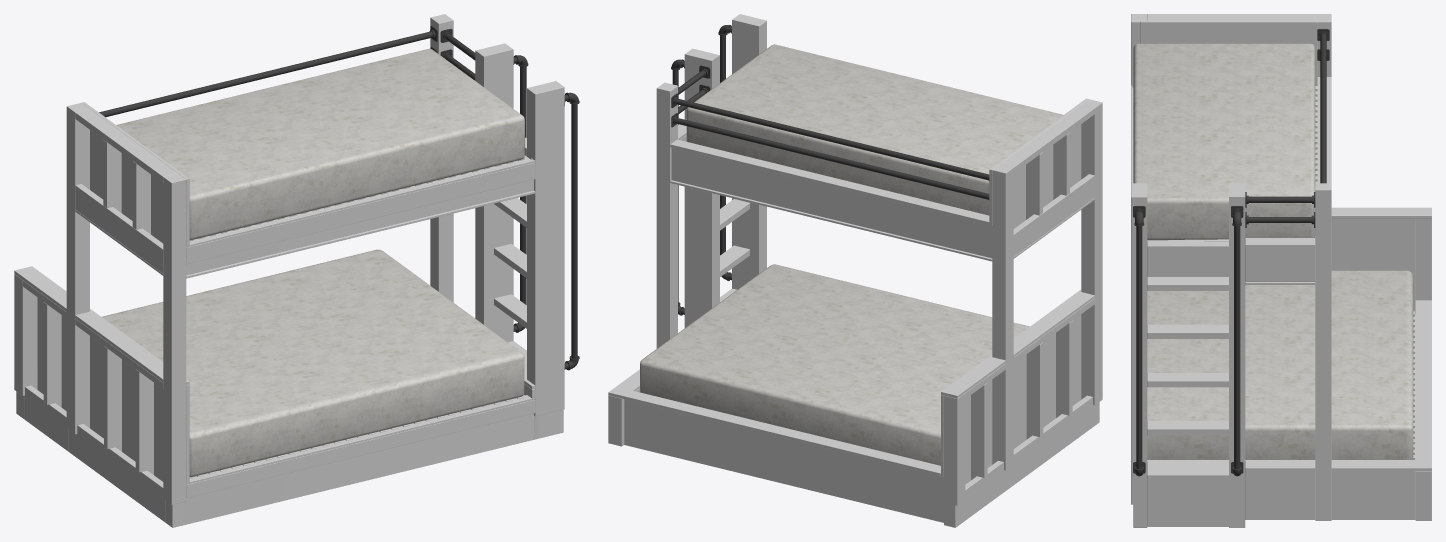
The model's file is bunks1.glb.
3 views of the same model, side by side, from view 1: azimuth 30°, elevation 25°; view 2: azimuth 150°, elevation 25°; view 3: azimuth 270°, elevation 25° (orthographic). The views are drawn at different scales.
Parts seen in each view (by area): view 1: mattresses.002, mattresses.001, bunk.126, bunk.071, bunk.074, bunk.073, bunk.127, bunk.121, bunk.120, bunk.070, bunk.117, bunk.063 (+22 smaller); view 2: mattresses.002, mattresses.001, bunk.069, bunk.061, bunk.073, bunk.074, bunk.127, bunk.075, bars.002, bunk.117, bunk.126, bunk.068 (+17 smaller); view 3: mattresses.002, mattresses.001, bunk.075, bunk.117, bunk.126, bunk.081, bunk.129, bars.023, bunk.127, bunk.131, bunk.130, bunk.067 (+20 smaller).
Part boxes in pixels (<box>): mattresses.002: <box>102,249,524,477</box>; mattresses.001: <box>116,48,524,240</box>; bunk.126: <box>527,81,564,439</box>; bunk.071: <box>185,413,533,524</box>; bunk.074: <box>163,173,186,527</box>; bunk.073: <box>66,102,89,457</box>; bunk.127: <box>475,43,513,341</box>; bunk.121: <box>186,162,535,264</box>; bunk.120: <box>186,159,533,274</box>; bunk.070: <box>186,400,535,497</box>; bunk.117: <box>37,298,163,481</box>; bunk.063: <box>77,424,165,522</box>; mattresses.002: <box>640,264,1029,465</box>; mattresses.001: <box>686,44,1063,215</box>; bunk.069: <box>624,399,943,522</box>; bunk.061: <box>671,148,992,258</box>; bunk.073: <box>992,164,1013,491</box>; bunk.074: <box>1081,99,1102,426</box>; bunk.127: <box>684,48,719,327</box>; bunk.075: <box>656,82,677,348</box>; bars.002: <box>671,93,989,200</box>; bunk.117: <box>965,314,1081,484</box>; bunk.126: <box>732,14,766,289</box>; bunk.068: <box>608,390,940,476</box>; mattresses.002: <box>1147,270,1413,459</box>; mattresses.001: <box>1133,43,1315,240</box>; bunk.075: <box>1315,183,1331,520</box>; bunk.117: <box>1331,219,1415,313</box>; bunk.126: <box>1131,183,1147,527</box>; bunk.081: <box>1140,21,1317,85</box>; bunk.129: <box>1331,471,1415,519</box>; bars.023: <box>1133,206,1243,476</box>; bunk.127: <box>1229,183,1245,527</box>; bunk.131: <box>1147,478,1228,526</box>; bunk.130: <box>1245,471,1315,519</box>; bunk.067: <box>1147,241,1228,276</box>.
Bounding box in the file's own units: 2.47 × 1.99 × 1.64.
Materials: 3 (1 with a texture image).
